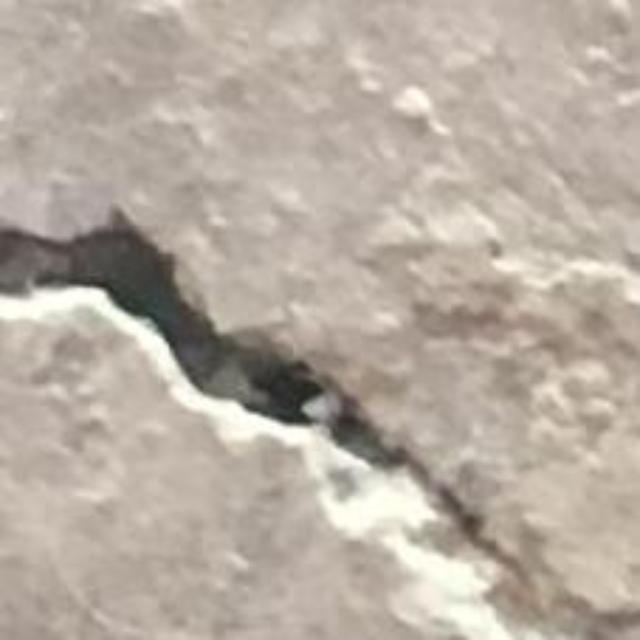crack: (0, 209, 639, 639)
